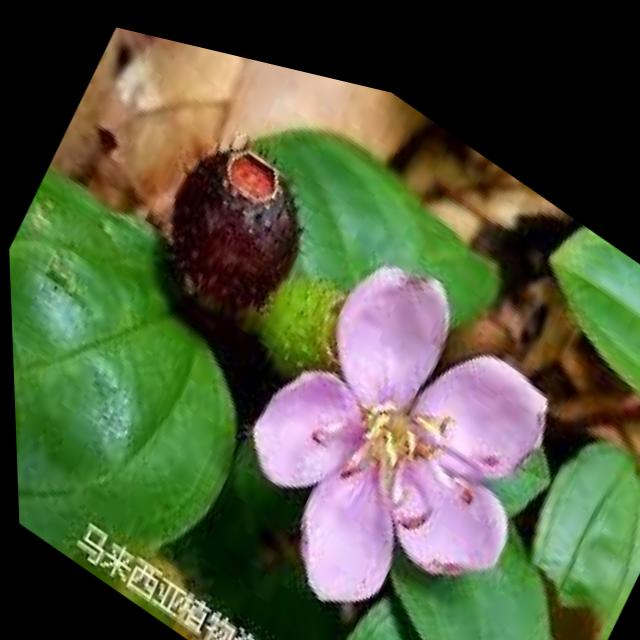Flower: (191, 165, 601, 640)
